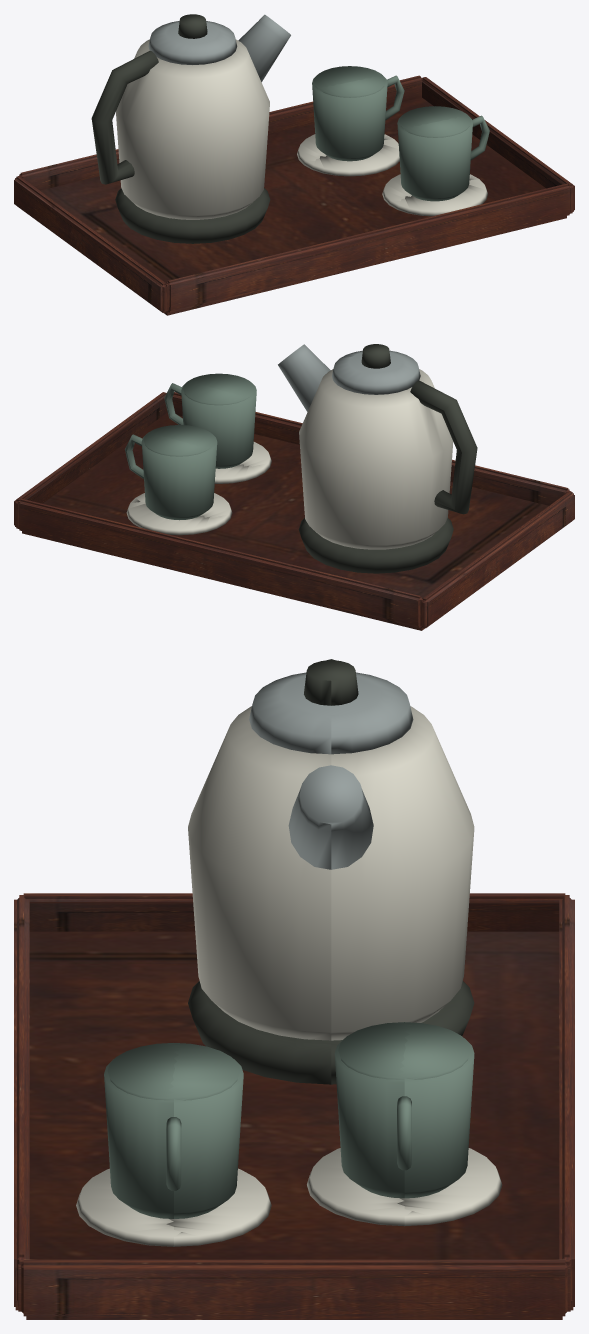
The model's file is breakfast-tray.glb.
3 renders of one model, top to bottom at view 1: azimuth 30°, elevation 25°; view 2: azimuth 150°, elevation 25°; view 3: azimuth 270°, elevation 25°, orthographic. The views are drawn at different scales.
Parts seen in each view (by area): view 1: Frame; view 2: Frame; view 3: Frame.
Boxes of the visible parts, x1=… form: Frame: x1=14, y1=14, x2=574, y2=315; Frame: x1=14, y1=344, x2=574, y2=630; Frame: x1=14, y1=659, x2=574, y2=1319.
Size of the model in its own units: 0.506 by 0.244 by 0.321.
Materials: 5 (1 with a texture image).
